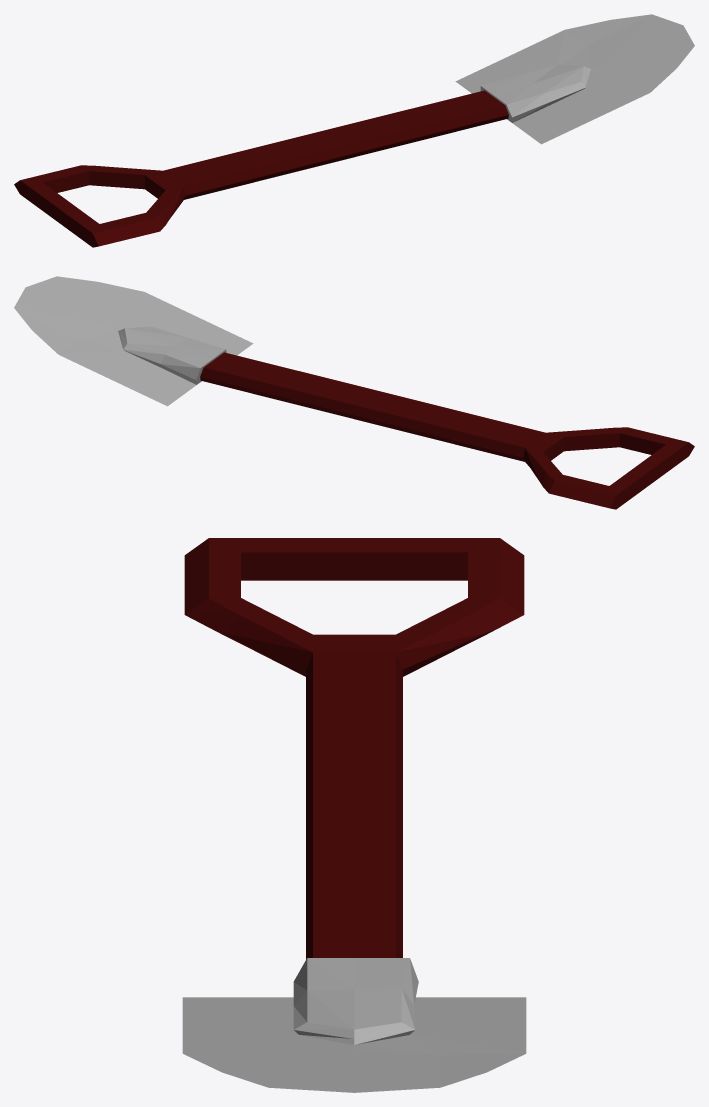
Rendered from Spade.fbx.
The picture shows the model from 3 angles, top to bottom: view 1: azimuth 30°, elevation 25°; view 2: azimuth 150°, elevation 25°; view 3: azimuth 270°, elevation 25°; orthographic projection. The views are drawn at different scales.
Parts seen in each view (by area): view 1: pPlane5; view 2: pPlane5; view 3: pPlane5.
Boxes of the visible parts, x1,y1,x2,y2 form: pPlane5: [14, 14, 694, 247]; pPlane5: [14, 276, 694, 509]; pPlane5: [182, 538, 526, 1092].
Size of the model in its own units: 4.21 by 0.2739 by 1.
